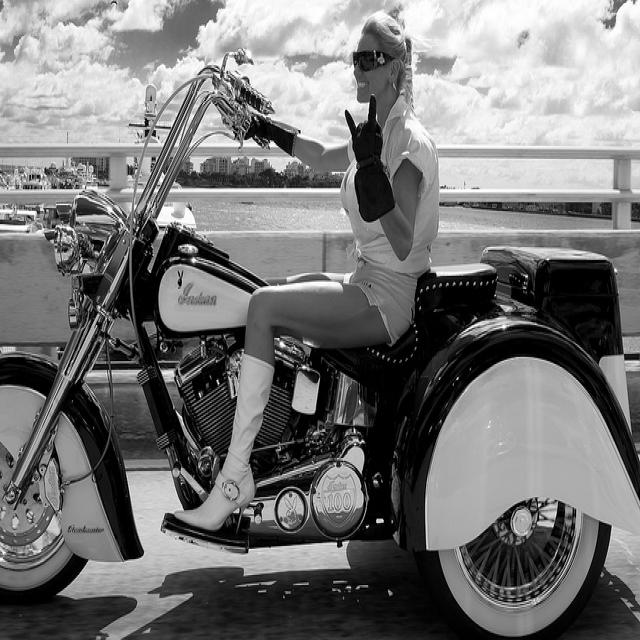motor: (0, 46, 640, 633)
